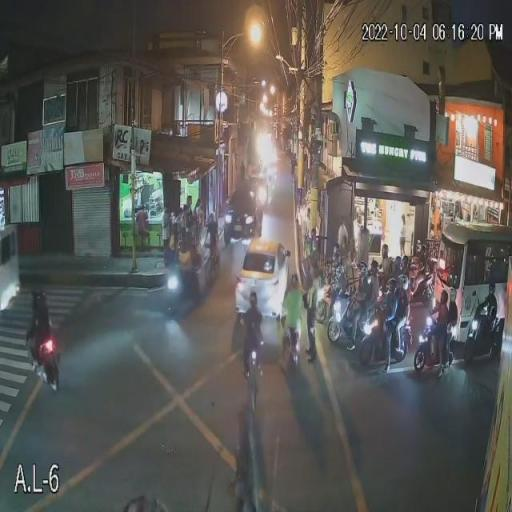helmet: (412, 244, 430, 296), (31, 291, 48, 312), (247, 291, 260, 311), (331, 254, 345, 270), (416, 244, 430, 258), (289, 274, 300, 291), (398, 274, 409, 288), (438, 291, 449, 305), (447, 289, 457, 303), (387, 277, 398, 289), (487, 284, 497, 297), (368, 262, 378, 275), (381, 246, 390, 260), (358, 261, 368, 272), (393, 257, 401, 269), (400, 256, 408, 268)
motorcycle: (354, 305, 410, 367), (412, 313, 454, 375), (466, 314, 512, 365), (27, 325, 61, 391), (158, 261, 199, 311), (326, 293, 360, 346), (404, 264, 438, 304), (240, 337, 264, 393), (282, 322, 304, 375), (316, 281, 342, 324)
rider: (27, 290, 55, 370), (376, 276, 396, 380), (280, 275, 305, 347), (240, 291, 265, 361), (430, 290, 448, 376), (173, 226, 196, 280), (483, 285, 499, 356), (397, 274, 418, 328), (447, 288, 458, 375), (329, 253, 348, 296), (355, 264, 368, 306), (367, 262, 380, 303), (390, 256, 404, 281), (397, 256, 412, 279)
